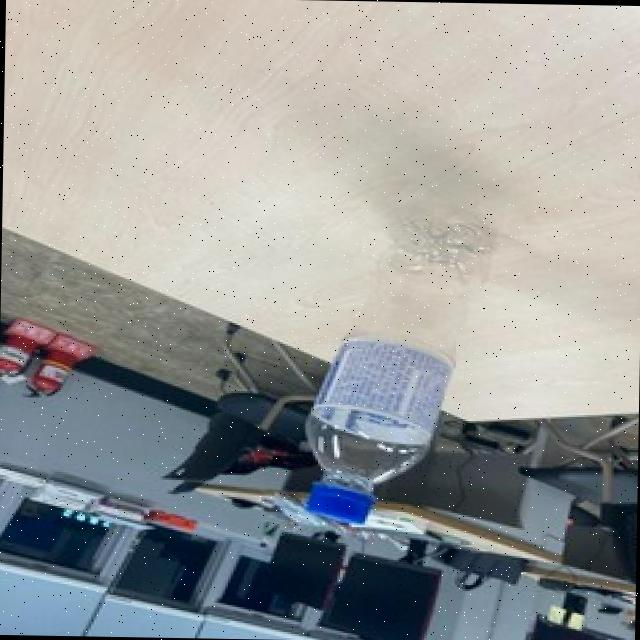bottle: (298, 198, 496, 535)
